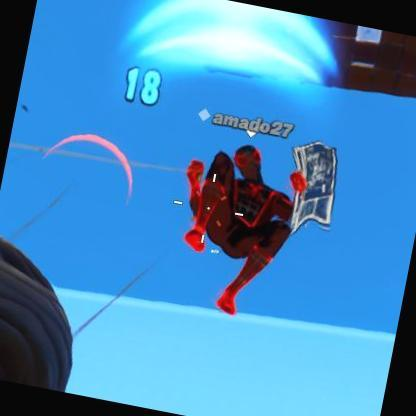person: (164, 140, 294, 303)
